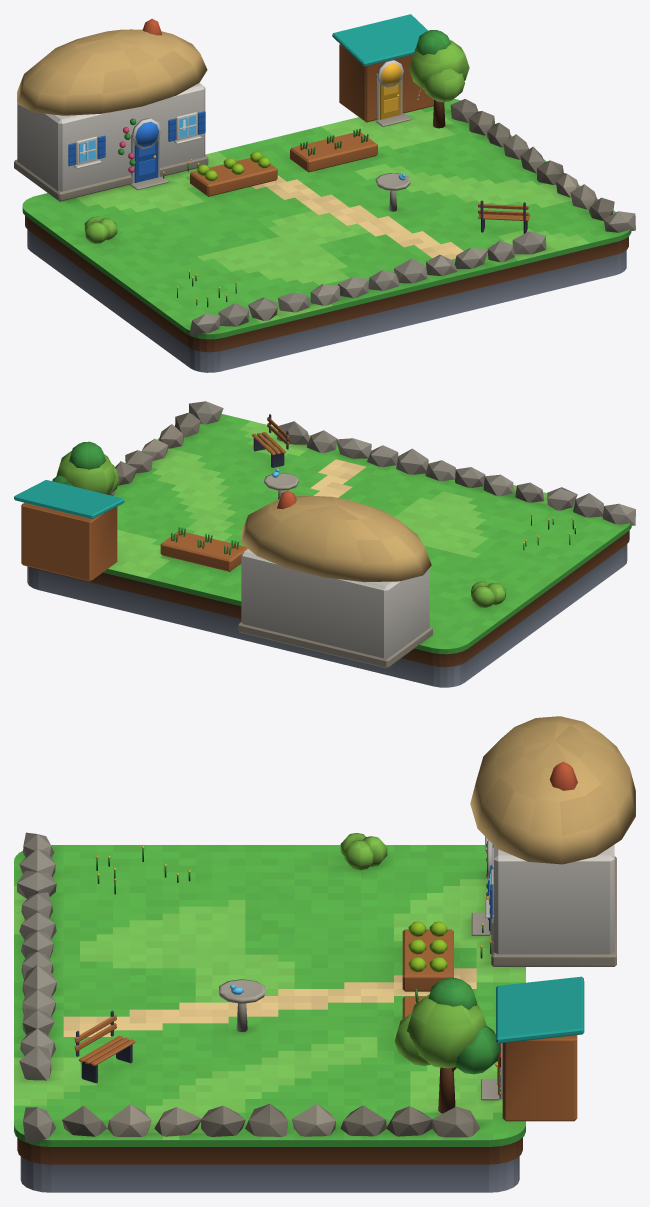
Rendered from cottage.glb.
3 views of the same model, one above another, from view 1: azimuth 30°, elevation 25°; view 2: azimuth 150°, elevation 25°; view 3: azimuth 270°, elevation 25° (orthographic). The views are drawn at different scales.
Visible parts, largest first — view 1: cottage_Satin, cottage_Matte, cottage_Gloss; view 2: cottage_Satin, cottage_Matte, cottage_Gloss; view 3: cottage_Matte, cottage_Satin, cottage_Gloss.
Part boxes in pixels (x1,y1,x2,y2): cottage_Satin: (14, 18, 635, 372); cottage_Matte: (22, 99, 631, 339); cottage_Gloss: (79, 14, 527, 299); cottage_Satin: (21, 401, 635, 687); cottage_Matte: (103, 414, 631, 654); cottage_Gloss: (14, 414, 576, 543); cottage_Matte: (14, 845, 525, 1146); cottage_Satin: (17, 716, 635, 1192); cottage_Gloss: (76, 841, 584, 1095).
Size of the model in its own units: 15.15 by 5.71 by 13.36.
